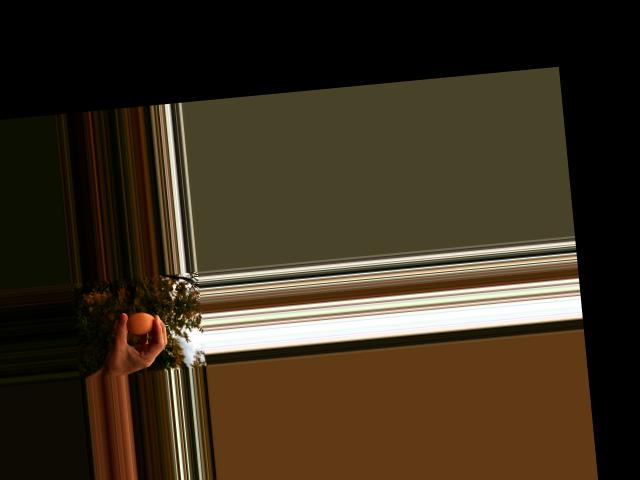egg: (125, 311, 156, 335)
